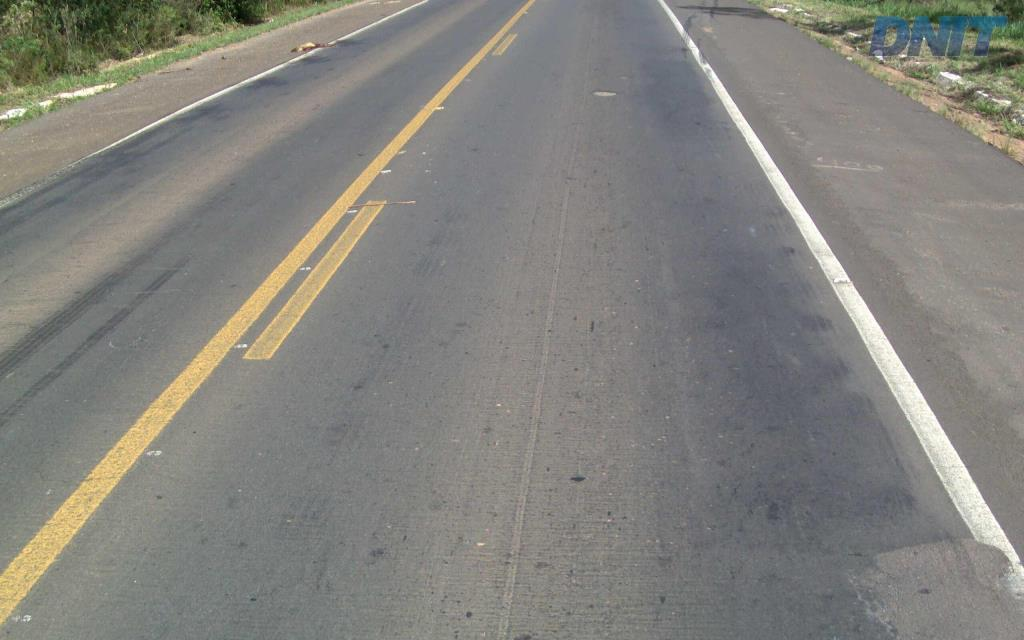pothole: (582, 79, 627, 99)
